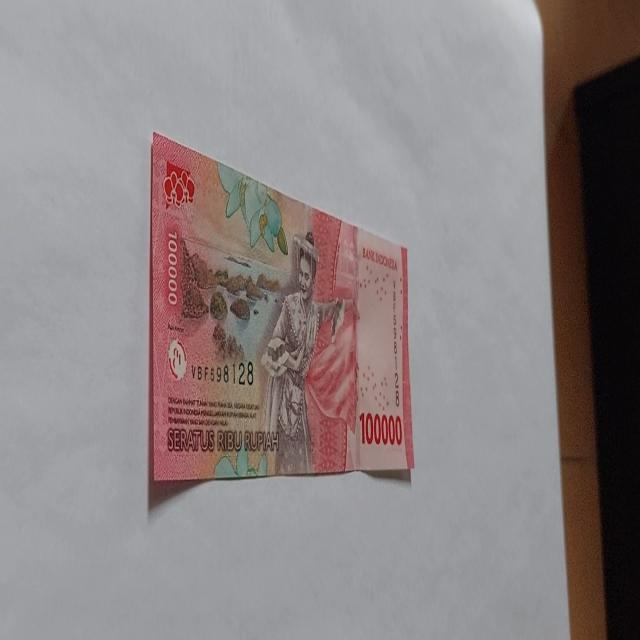seratus ribu rupiah: (148, 130, 414, 497), (258, 230, 351, 476)
